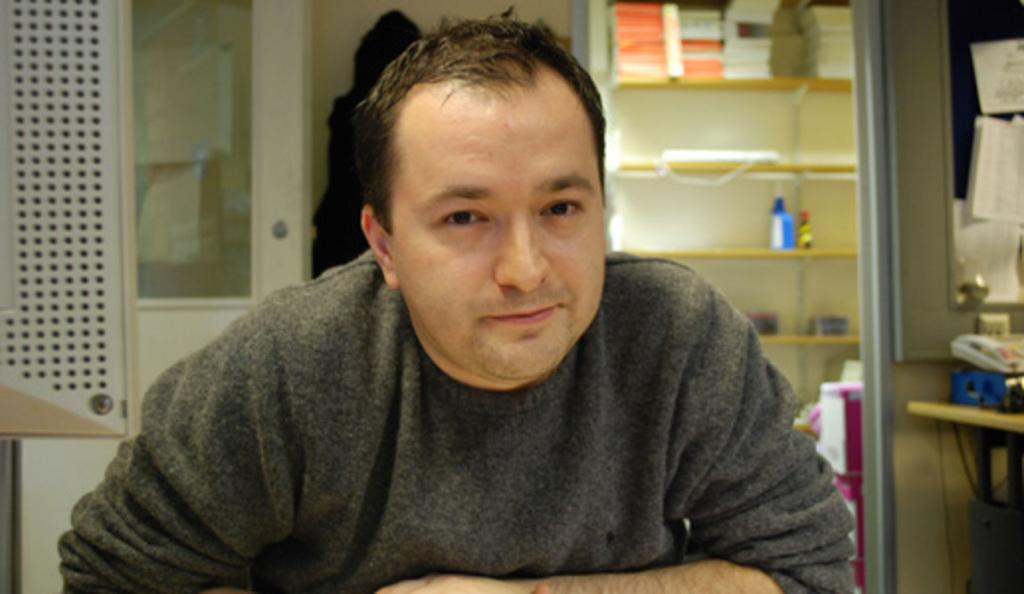Sem Máscara: (392, 103, 602, 376)
